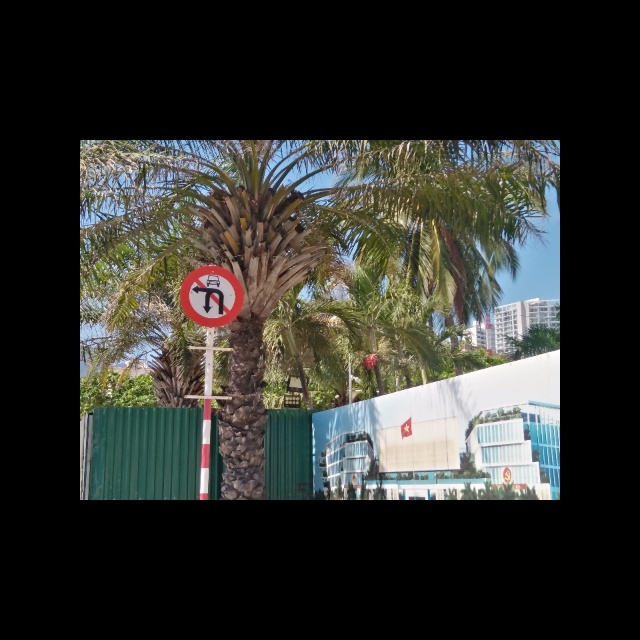Cấm xe ô tô quay đầu và rẽ trái: (176, 265, 247, 327)
